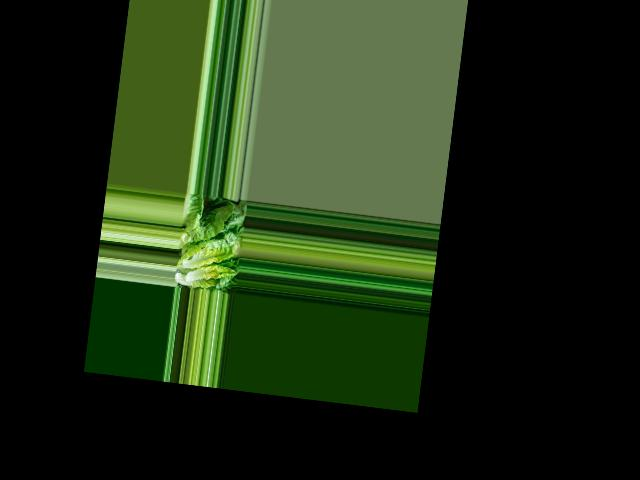lettuce: (173, 224, 239, 292)
